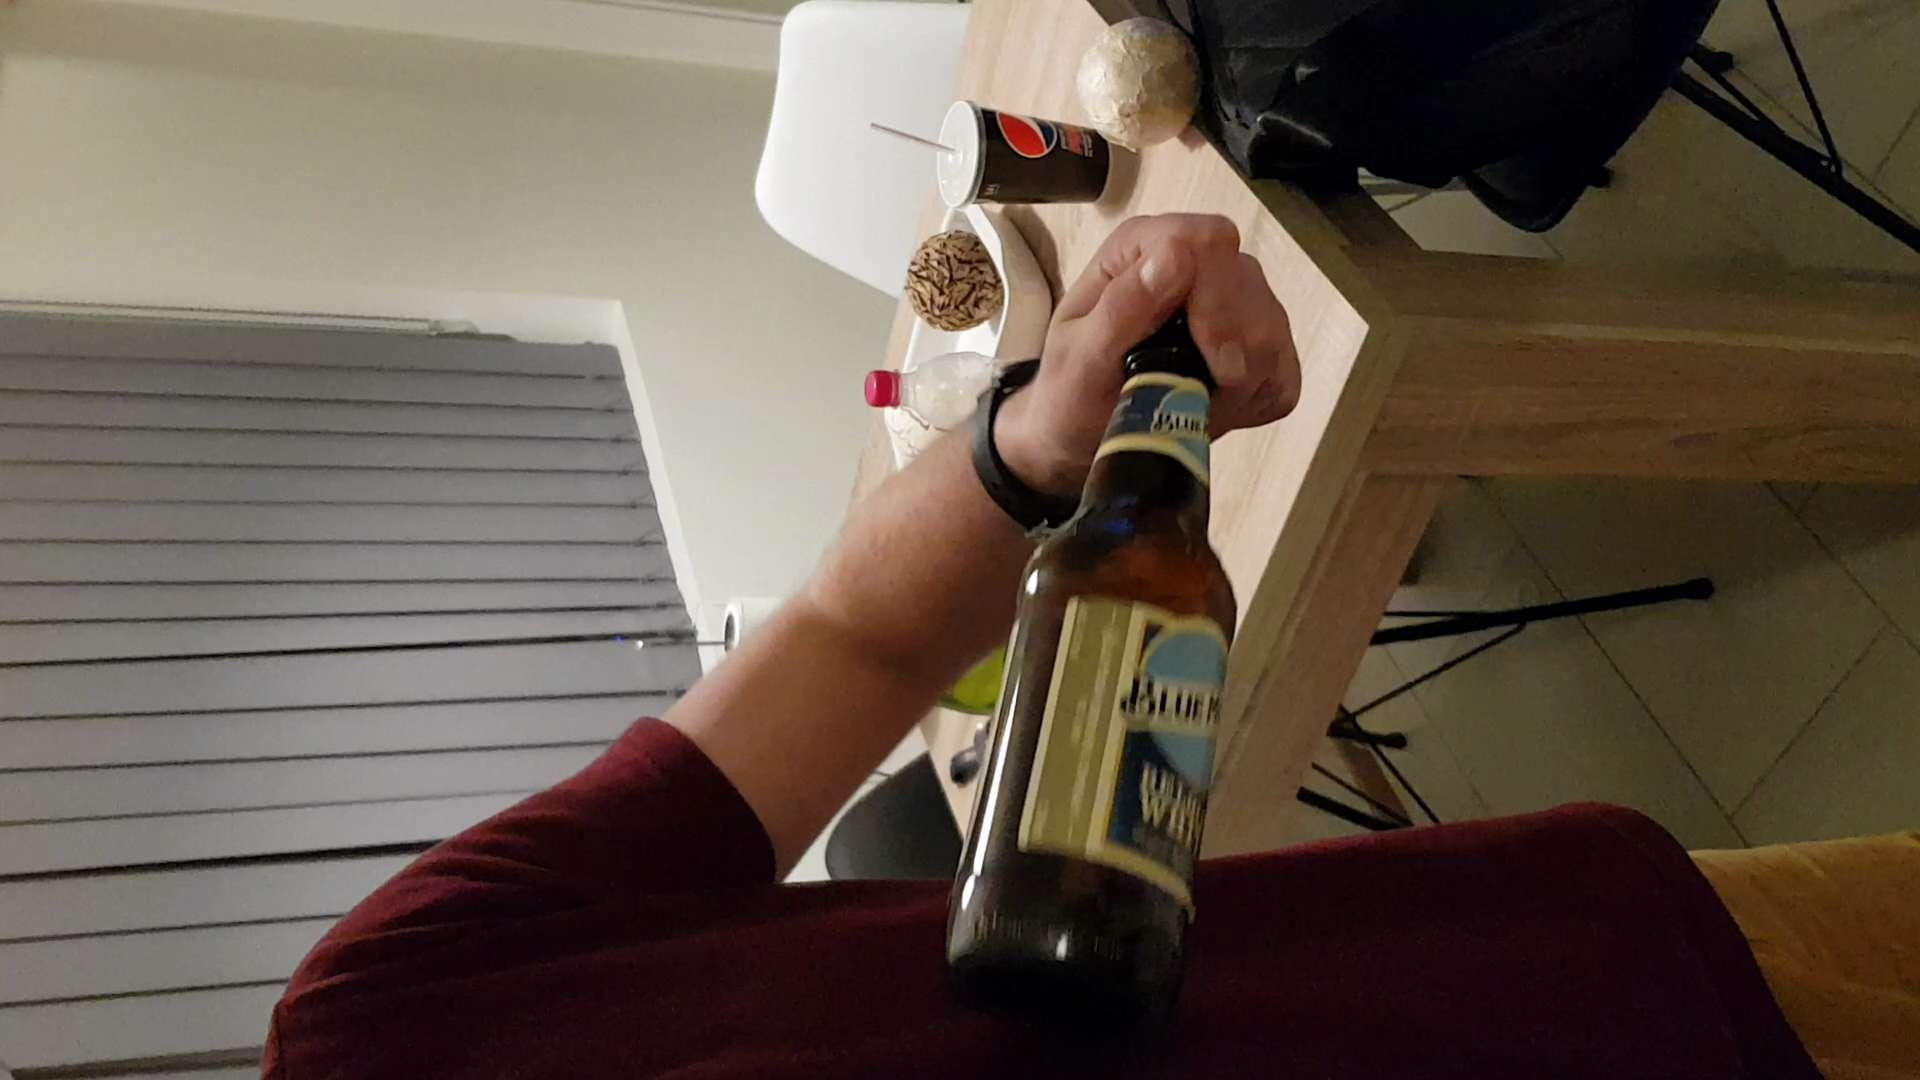Bottle: (953, 282, 1215, 1051)
